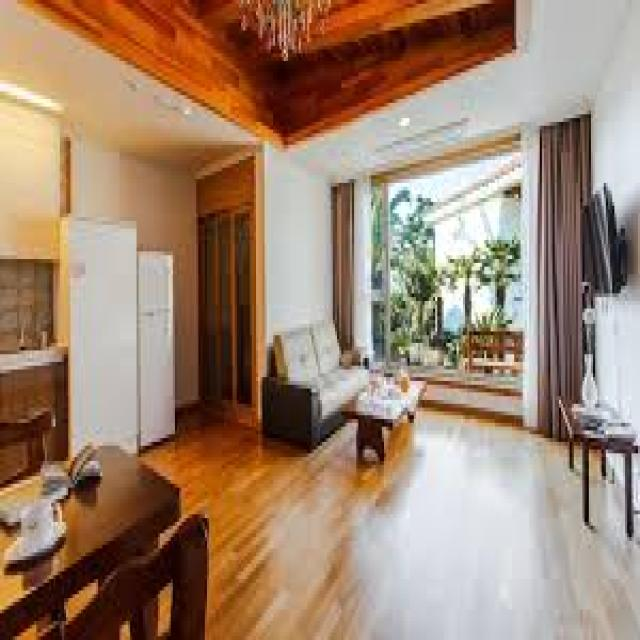Sofa: (265, 318, 368, 455)
Table: (4, 437, 180, 636), (555, 387, 639, 538), (352, 366, 428, 476)
tv: (574, 188, 630, 310)
window: (331, 173, 555, 359)
